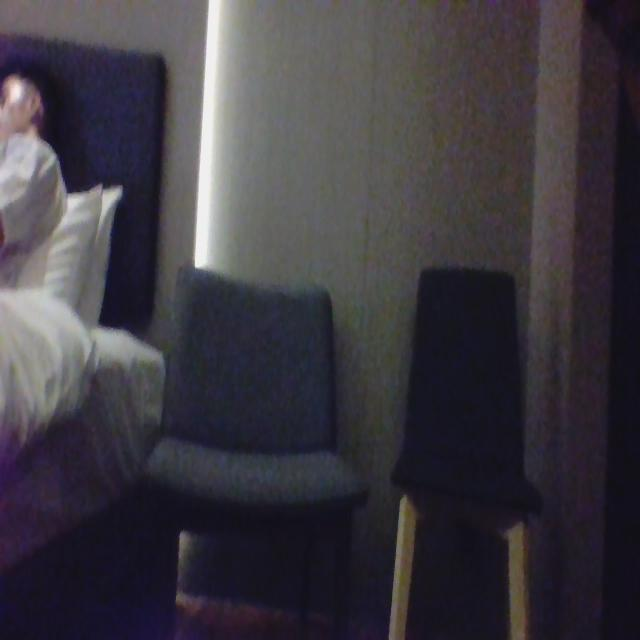empty: (407, 244, 531, 496), (180, 252, 335, 452)
